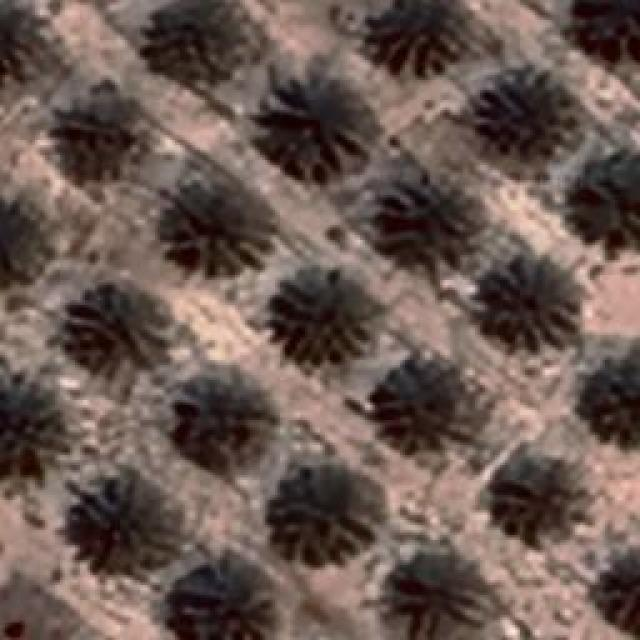PalmTree: (60, 280, 178, 382), (72, 468, 180, 578), (260, 74, 370, 178), (268, 265, 380, 365), (158, 185, 272, 278), (477, 70, 575, 178), (270, 475, 378, 563), (56, 92, 144, 188), (491, 440, 579, 535), (142, 0, 246, 80), (0, 367, 70, 485), (388, 361, 476, 454), (386, 555, 482, 640), (567, 149, 640, 259), (492, 255, 572, 355), (179, 385, 269, 470), (370, 0, 468, 78), (390, 177, 475, 265), (170, 568, 275, 638), (561, 0, 640, 61), (0, 0, 53, 87), (587, 356, 640, 436), (600, 542, 640, 636), (0, 200, 38, 295)
